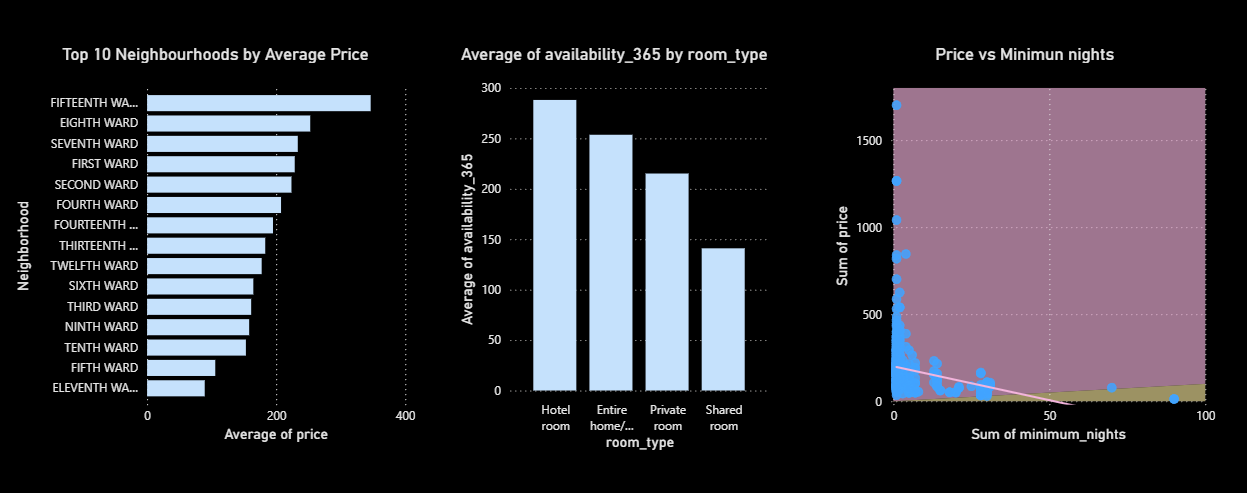

The dashboard page shown, as its layout file describes it:
{"tool":"powerbi","page":{"name":"Page 2","canvas":[1280,720],"ordinal":1},"visuals":[{"type":"barChart","title":"Top 10 Neighbourhoods by Average Price","fields":{"Category":["airbnb_cleaned_data.neighbourhood"],"Y":["Avg(airbnb_cleaned_data.price)"]},"box":[12.5,88.8,410,403.8],"z":0},{"type":"columnChart","fields":{"Category":["airbnb_cleaned_data.room_type"],"Y":["Avg(airbnb_cleaned_data.availability_365)"]},"box":[456.2,88.8,320,411.6],"z":1},{"type":"scatterChart","title":"Price vs Minimun nights","fields":{"Category":["airbnb_cleaned_data.Name"],"X":["Sum(airbnb_cleaned_data.minimum_nights)"],"Y":["Sum(airbnb_cleaned_data.price)"]},"box":[831.2,88.8,391.2,403.8],"z":2}]}

Visuals, with their boxes on the page's 1280x720 design canvas (x1, y1, x2, y2). These are canvas units, not pixel positions in the 1247x493 screenshot, which may show the page scaled, cropped or inside an application window:
"Top 10 Neighbourhoods by Average Price" barChart: box(12, 89, 422, 493)
columnChart - airbnb_cleaned_data.room_type x Avg(airbnb_cleaned_data.availability_365): box(456, 89, 776, 500)
"Price vs Minimun nights" scatterChart: box(831, 89, 1222, 493)
